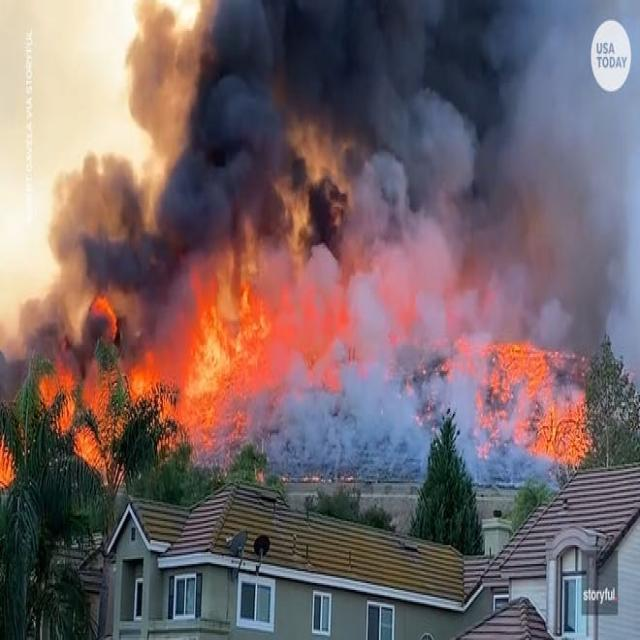Fire: (180, 324, 258, 391)
Smoke: (544, 107, 636, 332), (290, 8, 403, 114), (408, 90, 473, 204)
